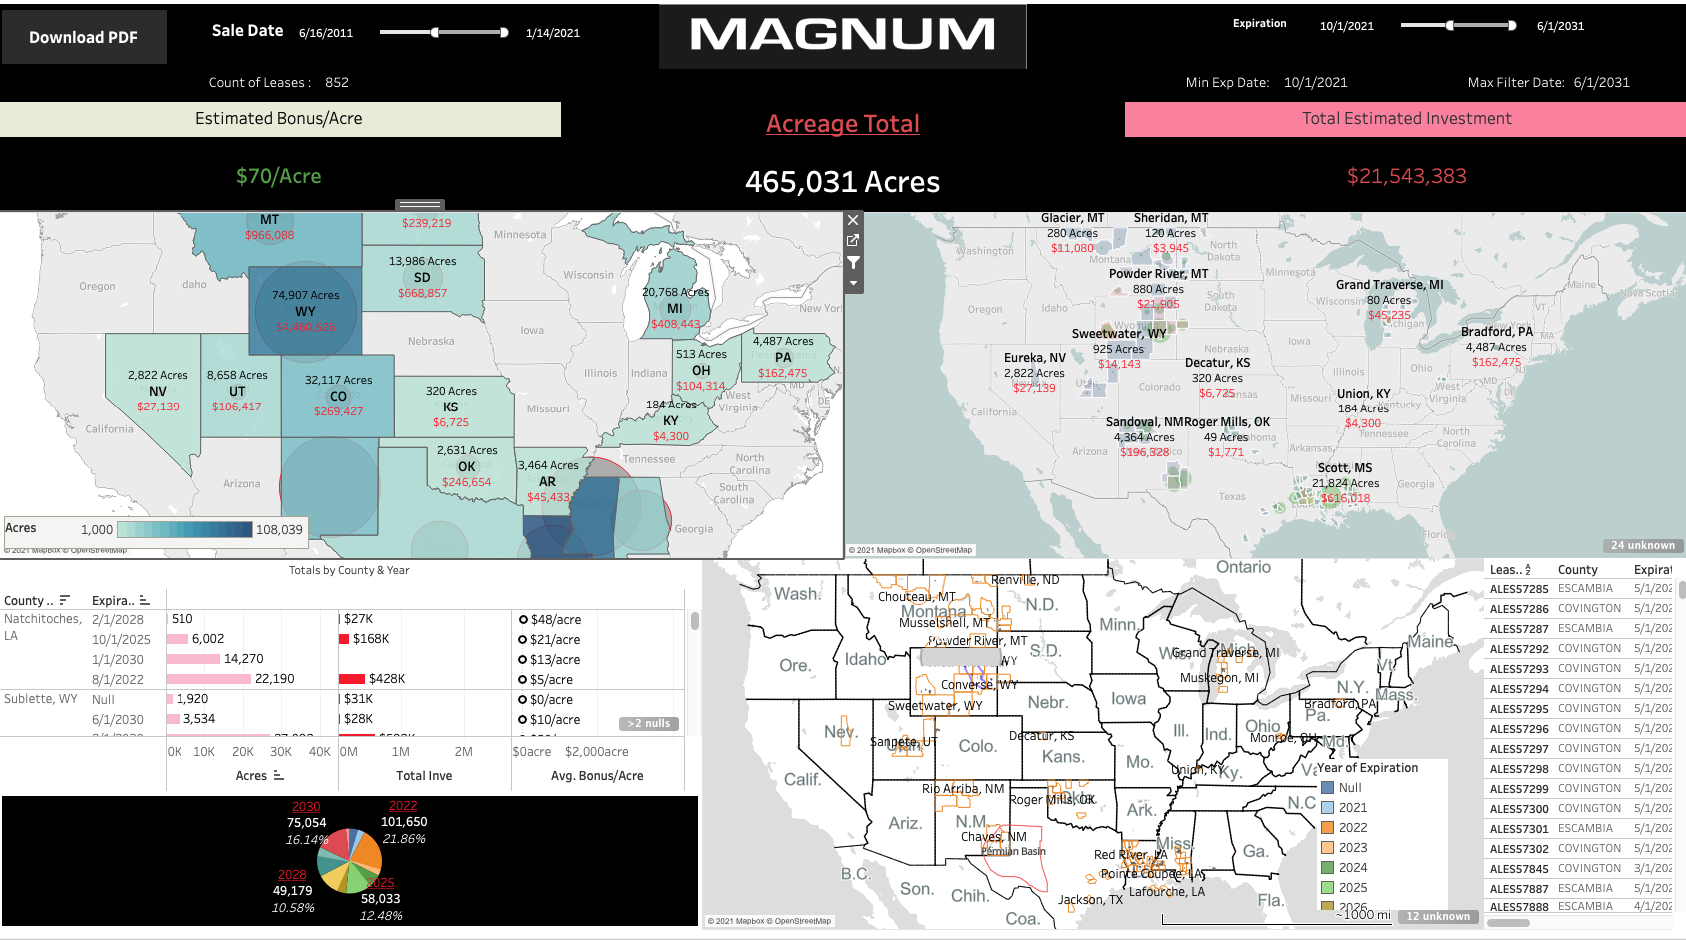

This screenshot's page, from the dashboard's own definition file:
{"tool":"tableau","page":{"name":"Public Dash","canvas":[1000,1000],"units":"permille","ordinal":0},"visuals":[{"type":"image","param":"Image/Magnum Logo Large.PNG","box":[4.7,8.5,990.6,117.9]},{"type":"worksheet","title":"Minimum Expiration","mark":"Automatic","box":[4.7,126.3,122.2,120.9]},{"type":"worksheet","title":"Acreage Total","mark":"Automatic","box":[126.9,126.3,747.1,120.9]},{"type":"worksheet","title":"Number of Leases Selected","mark":"Automatic","box":[873.9,126.3,121.4,120.9]},{"type":"worksheet","title":"State Map","mark":"Automatic","box":[4.7,247.2,477.2,358.3]},{"type":"worksheet","title":"County Map","mark":"Multipolygon","box":[481.9,247.2,513.5,358.3]},{"type":"legend","title":"State Map","param":"[federated.1q8y4oa020wbrz14a3cgf12d33q6].[sum:ACRES:qk]","box":[300.1,542.8,179.7,34.2]},{"type":"worksheet","title":"Totals by County & Year","mark":"Bar","rows":["official_c"],"cols":["ACRES"],"box":[4.7,605.5,297.6,386.1]},{"type":"worksheet","title":"County Map with Individual Tracts","mark":"Multipolygon","box":[302.2,605.5,428.4,386.1]},{"type":"worksheet","title":"Individual Leases Table","mark":"Automatic","rows":["LEASE_NO","COUNTY","ST","ACRES","EXPIRATION","DESCRIPT_1","DESCRIPT_2"],"box":[730.7,605.5,264.6,349]},{"type":"legend","title":"County Map with Individual Tracts","param":"[federated.1q8y4oa020wbrz14a3cgf12d33q6].[yr:EXPIRATION:ok]","box":[650.7,803.8,76.7,160.1]},{"type":"dashboard-object","box":[730.7,954.5,264.6,37]}]}

Visuals, with their boxes on the dashboard's canvas, which has no fixed pixel size, in thousandths of its width and height (x1, y1, x2, y2). These are canvas units, not pixel positions in the 1686x940 screenshot, which may show the page scaled, cropped or inside an application window:
image: 5, 8, 995, 126
"Minimum Expiration" worksheet: 5, 126, 127, 247
"Acreage Total" worksheet: 127, 126, 874, 247
"Number of Leases Selected" worksheet: 874, 126, 995, 247
"State Map" worksheet: 5, 247, 482, 606
"County Map" worksheet (Multipolygon marks): 482, 247, 995, 606
"State Map" legend: 300, 543, 480, 577
"Totals by County & Year" worksheet (Bar marks): 5, 606, 302, 992
"County Map with Individual Tracts" worksheet (Multipolygon marks): 302, 606, 731, 992
"Individual Leases Table" worksheet: 731, 606, 995, 954
"County Map with Individual Tracts" legend: 651, 804, 727, 964
dashboard-object: 731, 954, 995, 992
